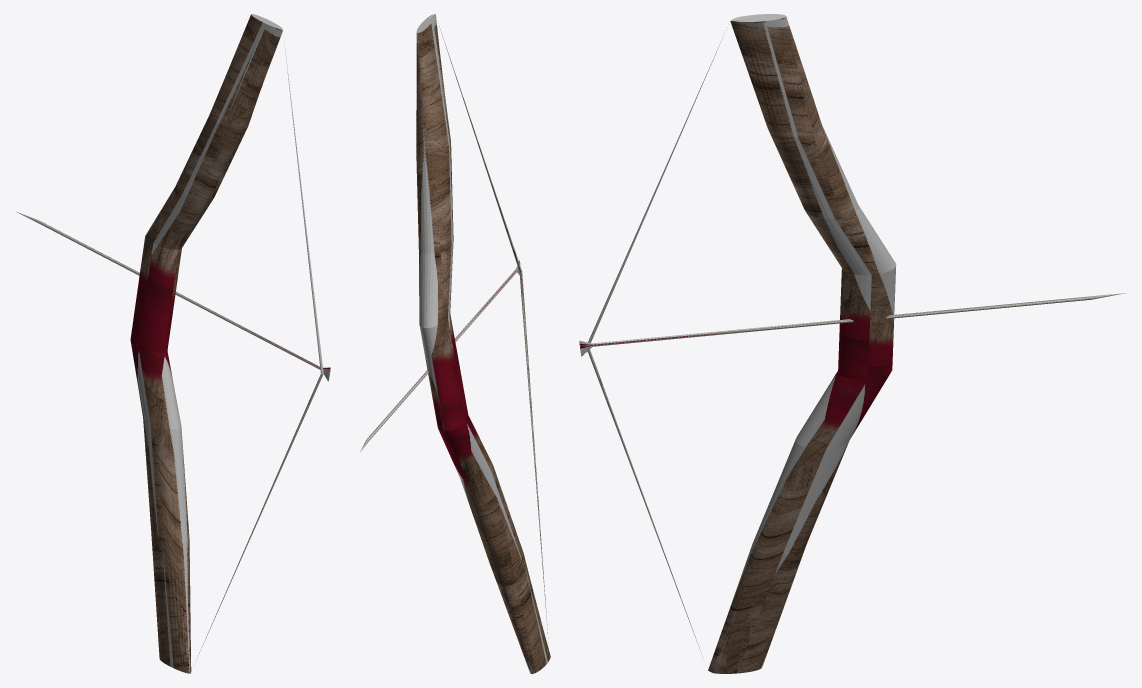
Rendered from Arco6.obj.
3 renders of one model, left to right at view 1: azimuth 30°, elevation 25°; view 2: azimuth 150°, elevation 25°; view 3: azimuth 270°, elevation 25°, orthographic. The views are drawn at different scales.
Visible parts, largest first — view 1: Cilindro; view 2: Cilindro; view 3: Cilindro.
Part boxes in pixels (x1=…): Cilindro: x1=16, y1=14, x2=330, y2=673; Cilindro: x1=360, y1=14, x2=550, y2=673; Cilindro: x1=579, y1=14, x2=1125, y2=673.
Size of the model in its own units: 0.1886 by 0.9705 by 0.6791.
1 material, 1 textured.
